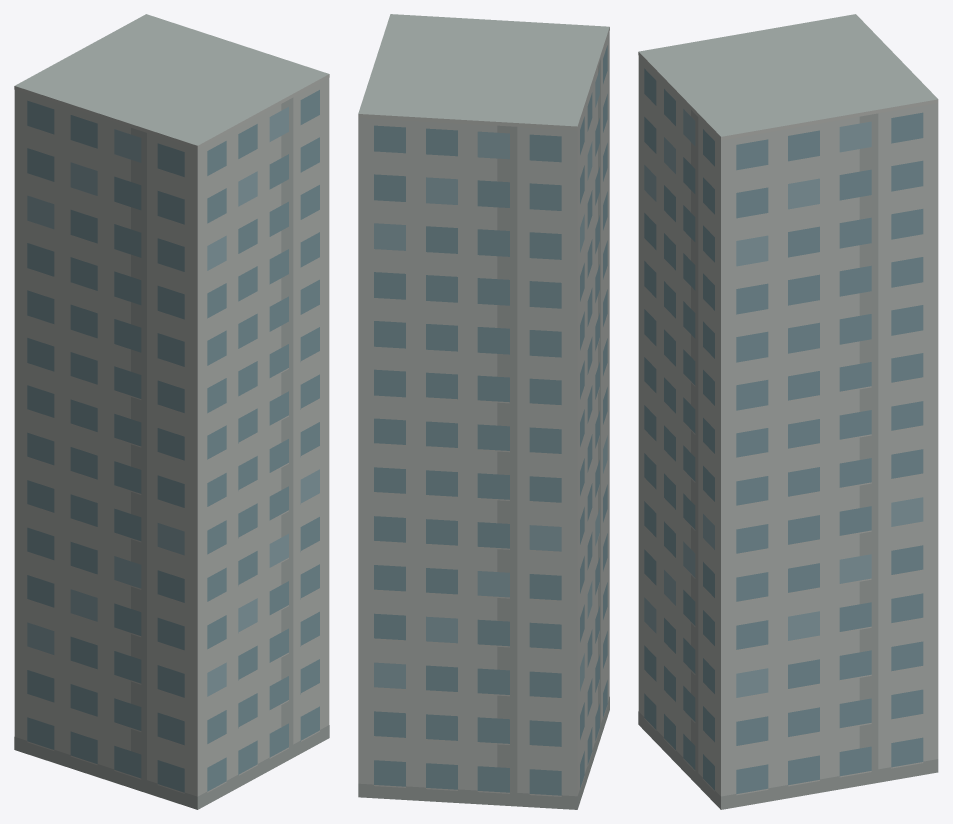
File: residential-8d78aaf2-d353-4785-8833-108c36a283bb.glb
The picture shows the model from 3 angles, left to right: view 1: azimuth 30°, elevation 25°; view 2: azimuth 150°, elevation 25°; view 3: azimuth 270°, elevation 25°; orthographic projection. The views are drawn at different scales.
Visible parts, largest first — view 1: residential-8d78aaf2-d353-4785-8833-108c36a283bb.tmp; view 2: residential-8d78aaf2-d353-4785-8833-108c36a283bb.tmp; view 3: residential-8d78aaf2-d353-4785-8833-108c36a283bb.tmp.
Part boxes in pixels (x1,y1,x2,y2): residential-8d78aaf2-d353-4785-8833-108c36a283bb.tmp: [14, 14, 329, 809]; residential-8d78aaf2-d353-4785-8833-108c36a283bb.tmp: [358, 14, 609, 809]; residential-8d78aaf2-d353-4785-8833-108c36a283bb.tmp: [638, 14, 938, 809].
Size of the model in its own units: 17.23 by 44 by 17.78.
